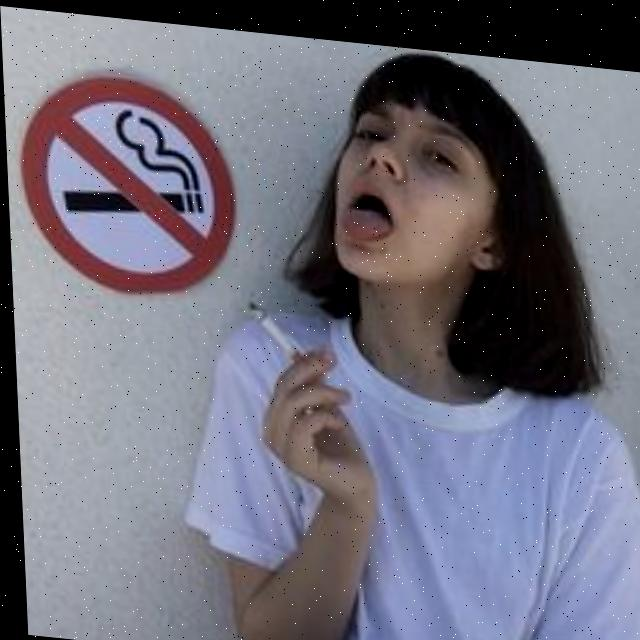cigarette: (246, 293, 304, 360)
